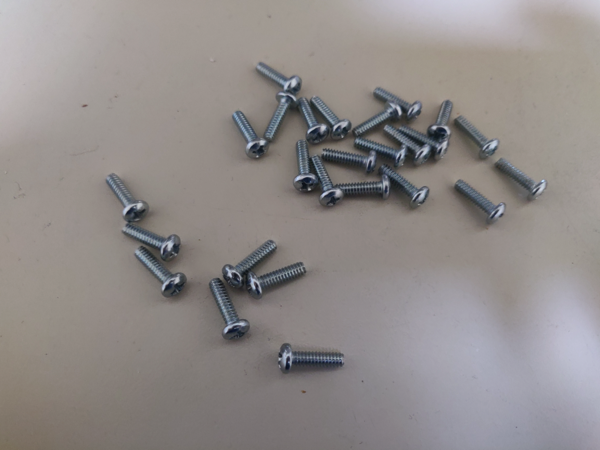shortscrew: (221, 237, 281, 290), (134, 246, 188, 300), (120, 221, 184, 264), (208, 278, 252, 340), (454, 178, 509, 227), (376, 162, 432, 210), (247, 259, 309, 301), (277, 340, 345, 376), (495, 158, 549, 203), (103, 173, 151, 223), (382, 123, 435, 167), (455, 115, 502, 160), (230, 110, 271, 161), (370, 87, 425, 125), (307, 154, 345, 209), (398, 123, 450, 162), (353, 101, 404, 140), (352, 136, 411, 169), (264, 92, 299, 144), (312, 96, 352, 139), (332, 174, 393, 202), (255, 61, 303, 96), (293, 137, 321, 195), (299, 96, 331, 145), (320, 148, 379, 174), (425, 100, 455, 143)
